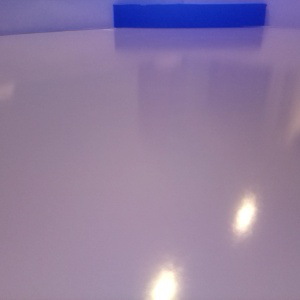zone: (113, 4, 267, 28)
